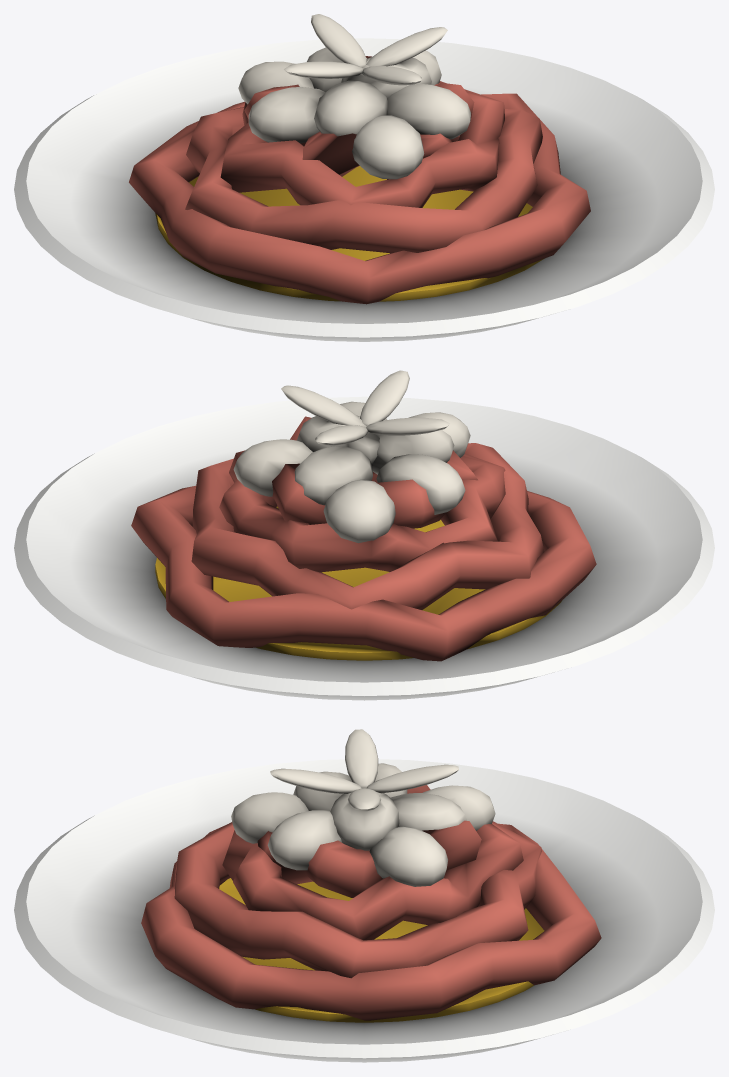
The model's file is meal_noodles.glb.
3 views of the same model, one above another, from view 1: azimuth 30°, elevation 25°; view 2: azimuth 150°, elevation 25°; view 3: azimuth 270°, elevation 25° (orthographic).
Parts seen in each view (by area): view 1: PART; view 2: PART; view 3: PART.
Boxes of the visible parts, x1,y1,x2,y2 form: PART: (14, 14, 714, 341); PART: (14, 370, 714, 700); PART: (14, 729, 714, 1062).
Size of the model in its own units: 0.301 by 0.0912 by 0.301.
